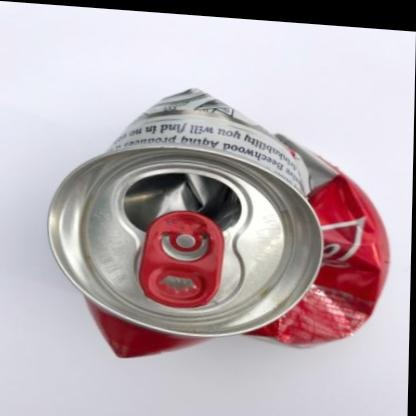trash: (48, 89, 388, 356), (249, 135, 388, 344)
